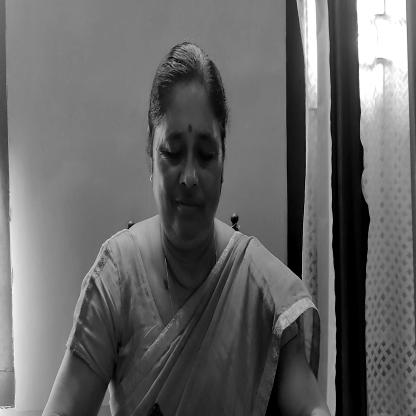Normal: (150, 46, 225, 252)
